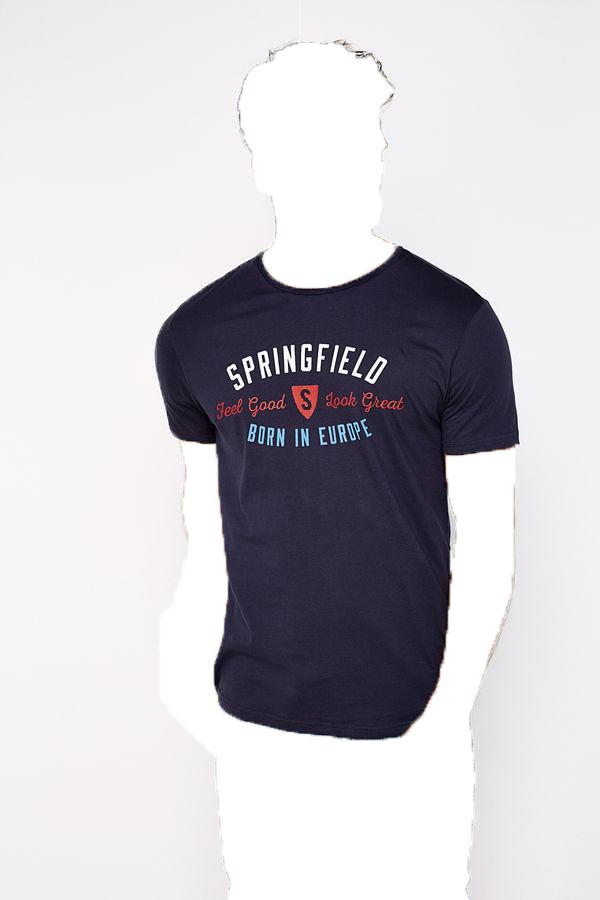teeshirt: (149, 244, 535, 741)
